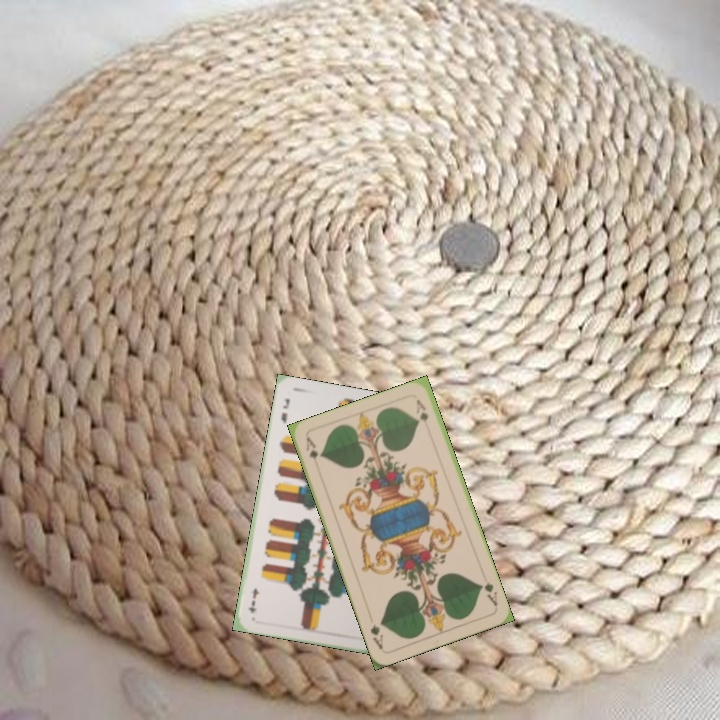E7: (277, 395, 292, 426)
GA: (302, 433, 322, 473), (476, 578, 500, 609)
